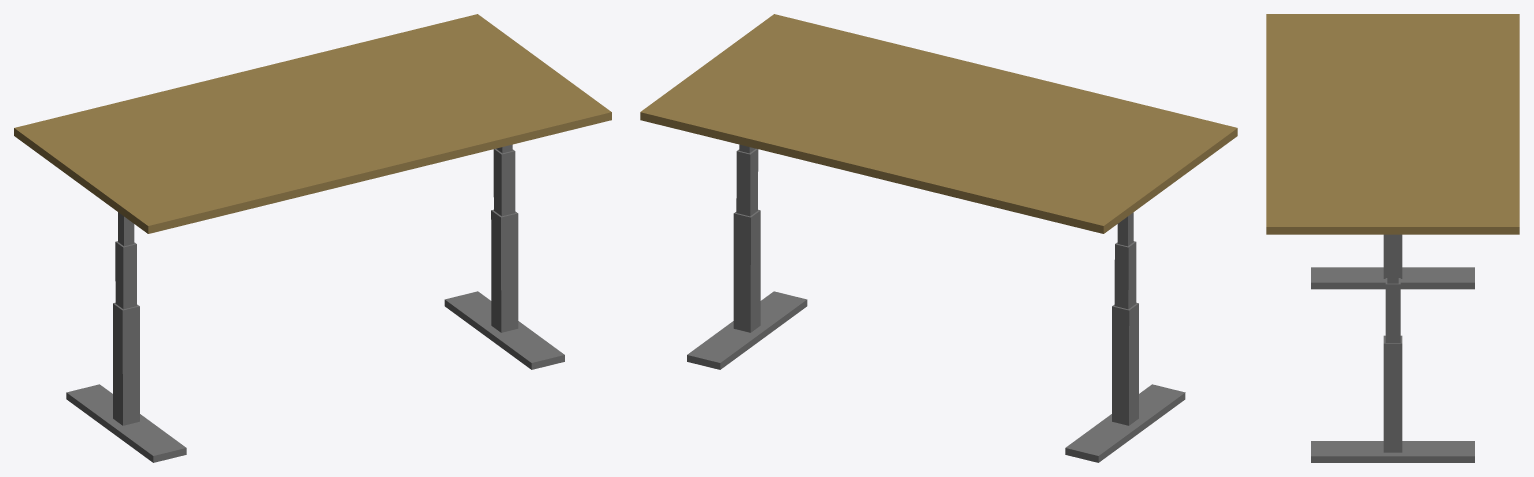
File: tableHigher1.fbx
3 views of the same model, side by side, from view 1: azimuth 30°, elevation 25°; view 2: azimuth 150°, elevation 25°; view 3: azimuth 270°, elevation 25° (orthographic). The views are drawn at different scales.
Parts seen in each view (by area): view 1: Cube, Cube.005, Cube.003; view 2: Cube, Cube.005, Cube.003; view 3: Cube, Cube.003, Cube.005.
Boxes of the visible parts, x1,y1,x2,y2 form: Cube: (14,14,611,233); Cube.005: (66,212,186,462); Cube.003: (444,144,564,369); Cube: (640,14,1237,233); Cube.005: (1065,212,1185,462); Cube.003: (687,144,807,369); Cube: (1266,14,1519,234); Cube.003: (1311,234,1474,462); Cube.005: (1311,234,1474,289).
Size of the model in its own units: 4058 by 2191 by 2032.
